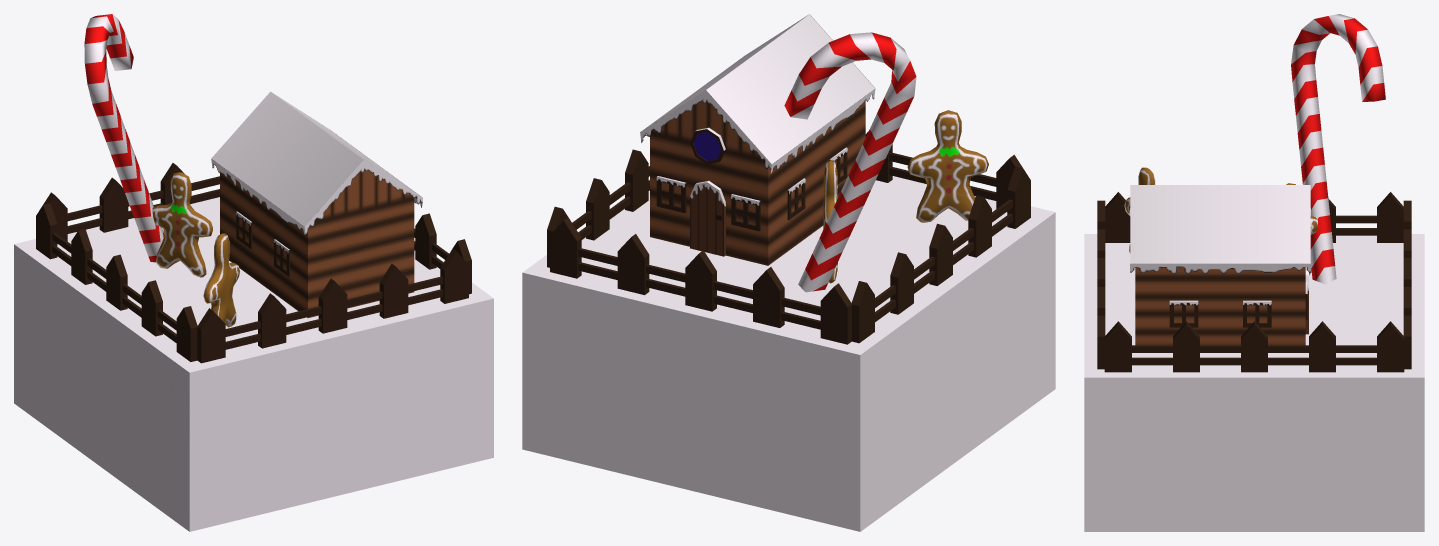
The model's file is Christmass_Decor_2.fbx.
The picture shows the model from 3 angles, left to right: view 1: azimuth 30°, elevation 25°; view 2: azimuth 150°, elevation 25°; view 3: azimuth 270°, elevation 25°; orthographic projection. The views are drawn at different scales.
Visible parts, largest first — view 1: Christmass_Decor_2; view 2: Christmass_Decor_2; view 3: Christmass_Decor_2.
Part boxes in pixels (box(x1,y1,x2,y2)): Christmass_Decor_2: box(14, 14, 493, 531); Christmass_Decor_2: box(522, 14, 1055, 531); Christmass_Decor_2: box(1084, 14, 1424, 531).
Bounding box in the file's own units: 200 × 254 × 200.
